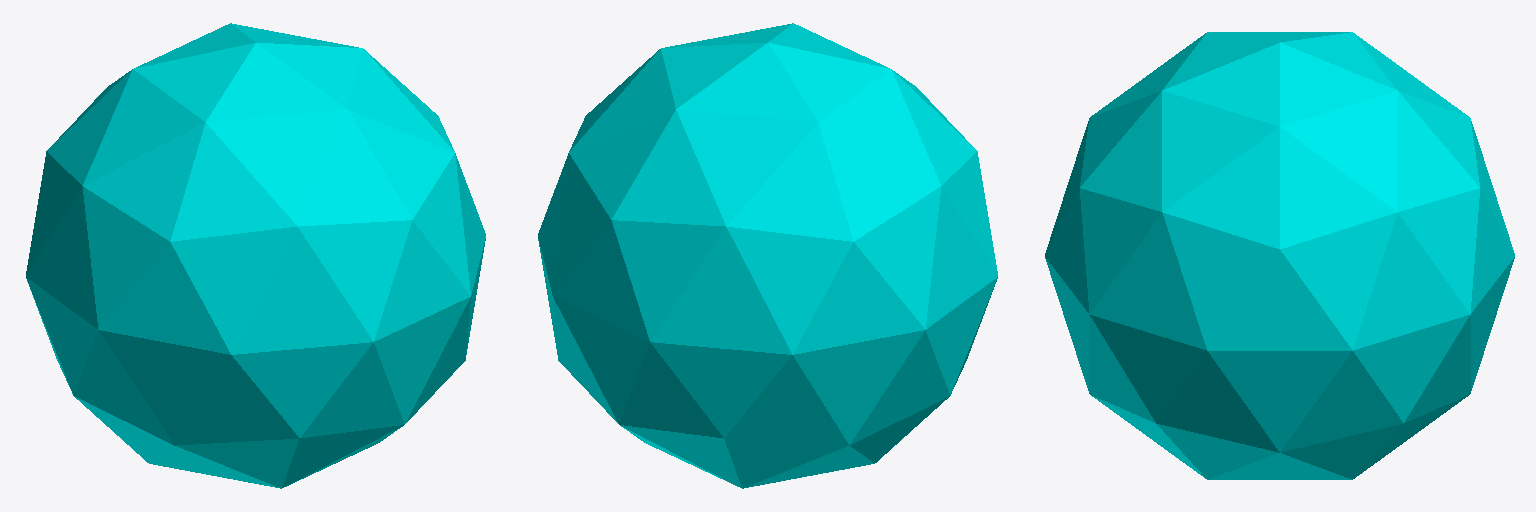
3 renders of one model, left to right at view 1: azimuth 30°, elevation 25°; view 2: azimuth 150°, elevation 25°; view 3: azimuth 270°, elevation 25°, orthographic.
Visible parts, largest first — view 1: ICO球; view 2: ICO球; view 3: ICO球.
Part boxes in pixels (x1,y1,x2,y2): ICO球: (26, 23, 485, 488); ICO球: (538, 23, 997, 488); ICO球: (1045, 32, 1514, 479).
Size of the model in its own units: 1.9 by 2 by 2.
Materials: 1 (1 with a texture image).